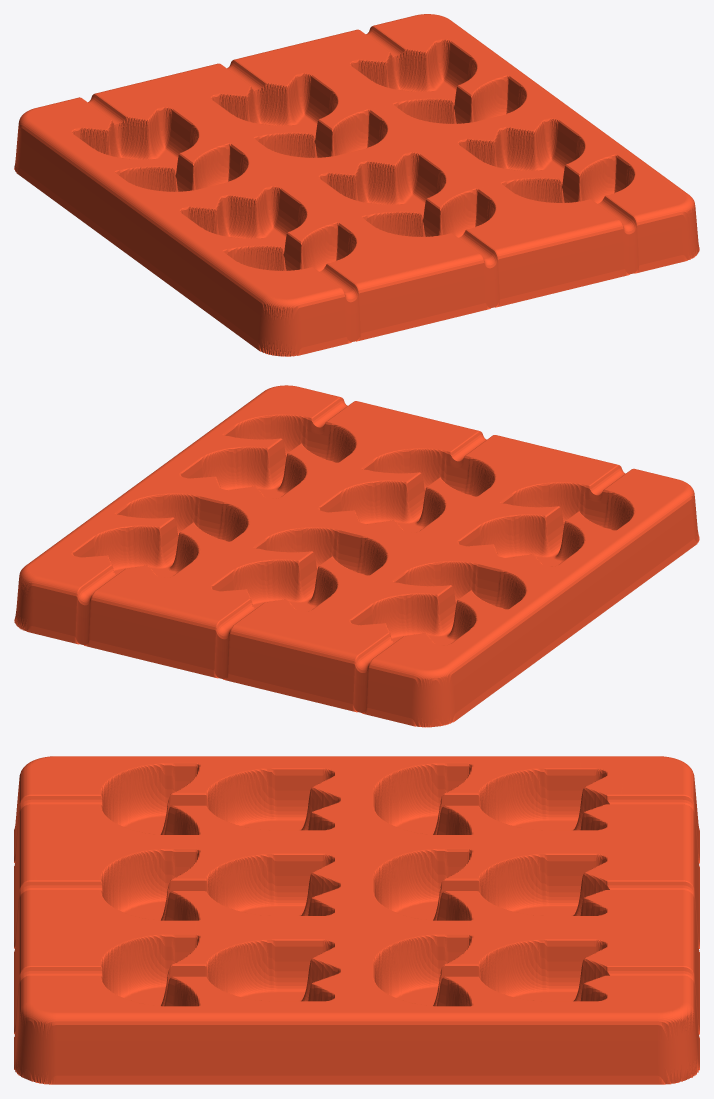
Rendered from mold.glb.
The picture shows the model from 3 angles, top to bottom: view 1: azimuth 30°, elevation 25°; view 2: azimuth 150°, elevation 25°; view 3: azimuth 270°, elevation 25°; orthographic projection. The views are drawn at different scales.
Parts seen in each view (by area): view 1: geometry_0; view 2: geometry_0; view 3: geometry_0.
Boxes of the visible parts, x1=… form: geometry_0: x1=14, y1=14, x2=699, y2=356; geometry_0: x1=14, y1=385, x2=699, y2=727; geometry_0: x1=14, y1=756, x2=699, y2=1084.
Bounding box in the file's own units: 0.1373 × 0.0155 × 0.1477.
